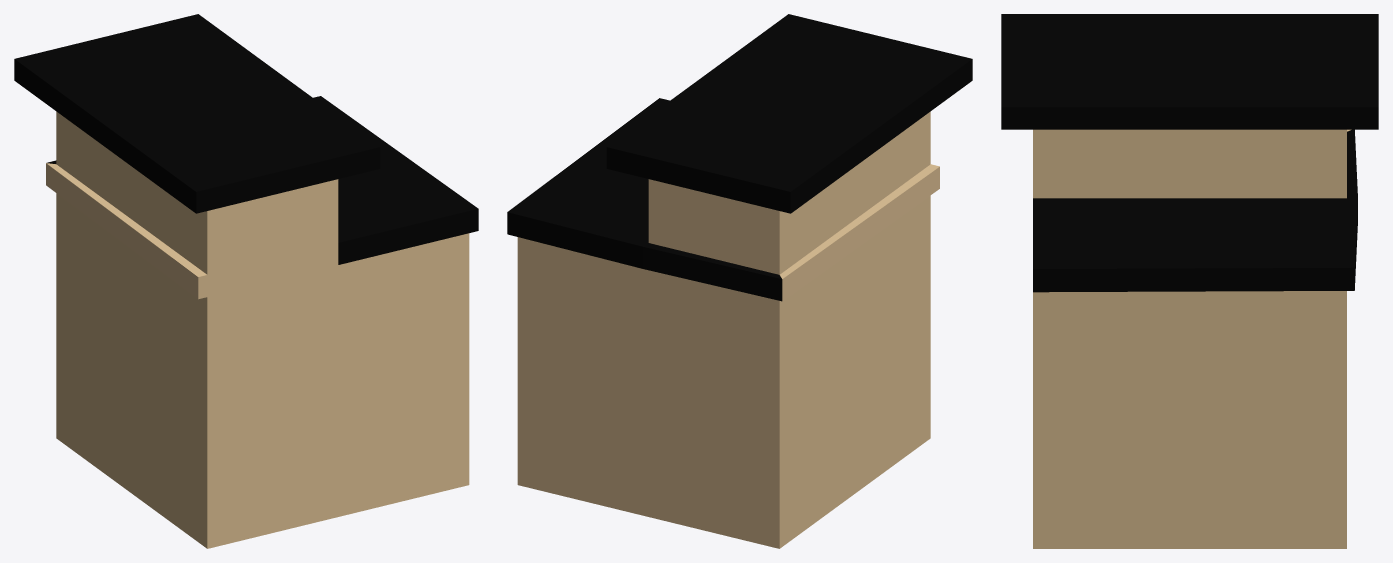
File: obj.house3.fbx
3 views of the same model, side by side, from view 1: azimuth 30°, elevation 25°; view 2: azimuth 150°, elevation 25°; view 3: azimuth 270°, elevation 25° (orthographic). The views are drawn at different scales.
Visible parts, largest first — view 1: Cube.003; view 2: Cube.003; view 3: Cube.003.
Part boxes in pixels (x1,y1,x2,y2): Cube.003: [14, 14, 478, 548]; Cube.003: [507, 14, 972, 548]; Cube.003: [1001, 14, 1378, 548].
Bounding box in the file's own units: 415 × 500 × 439.
